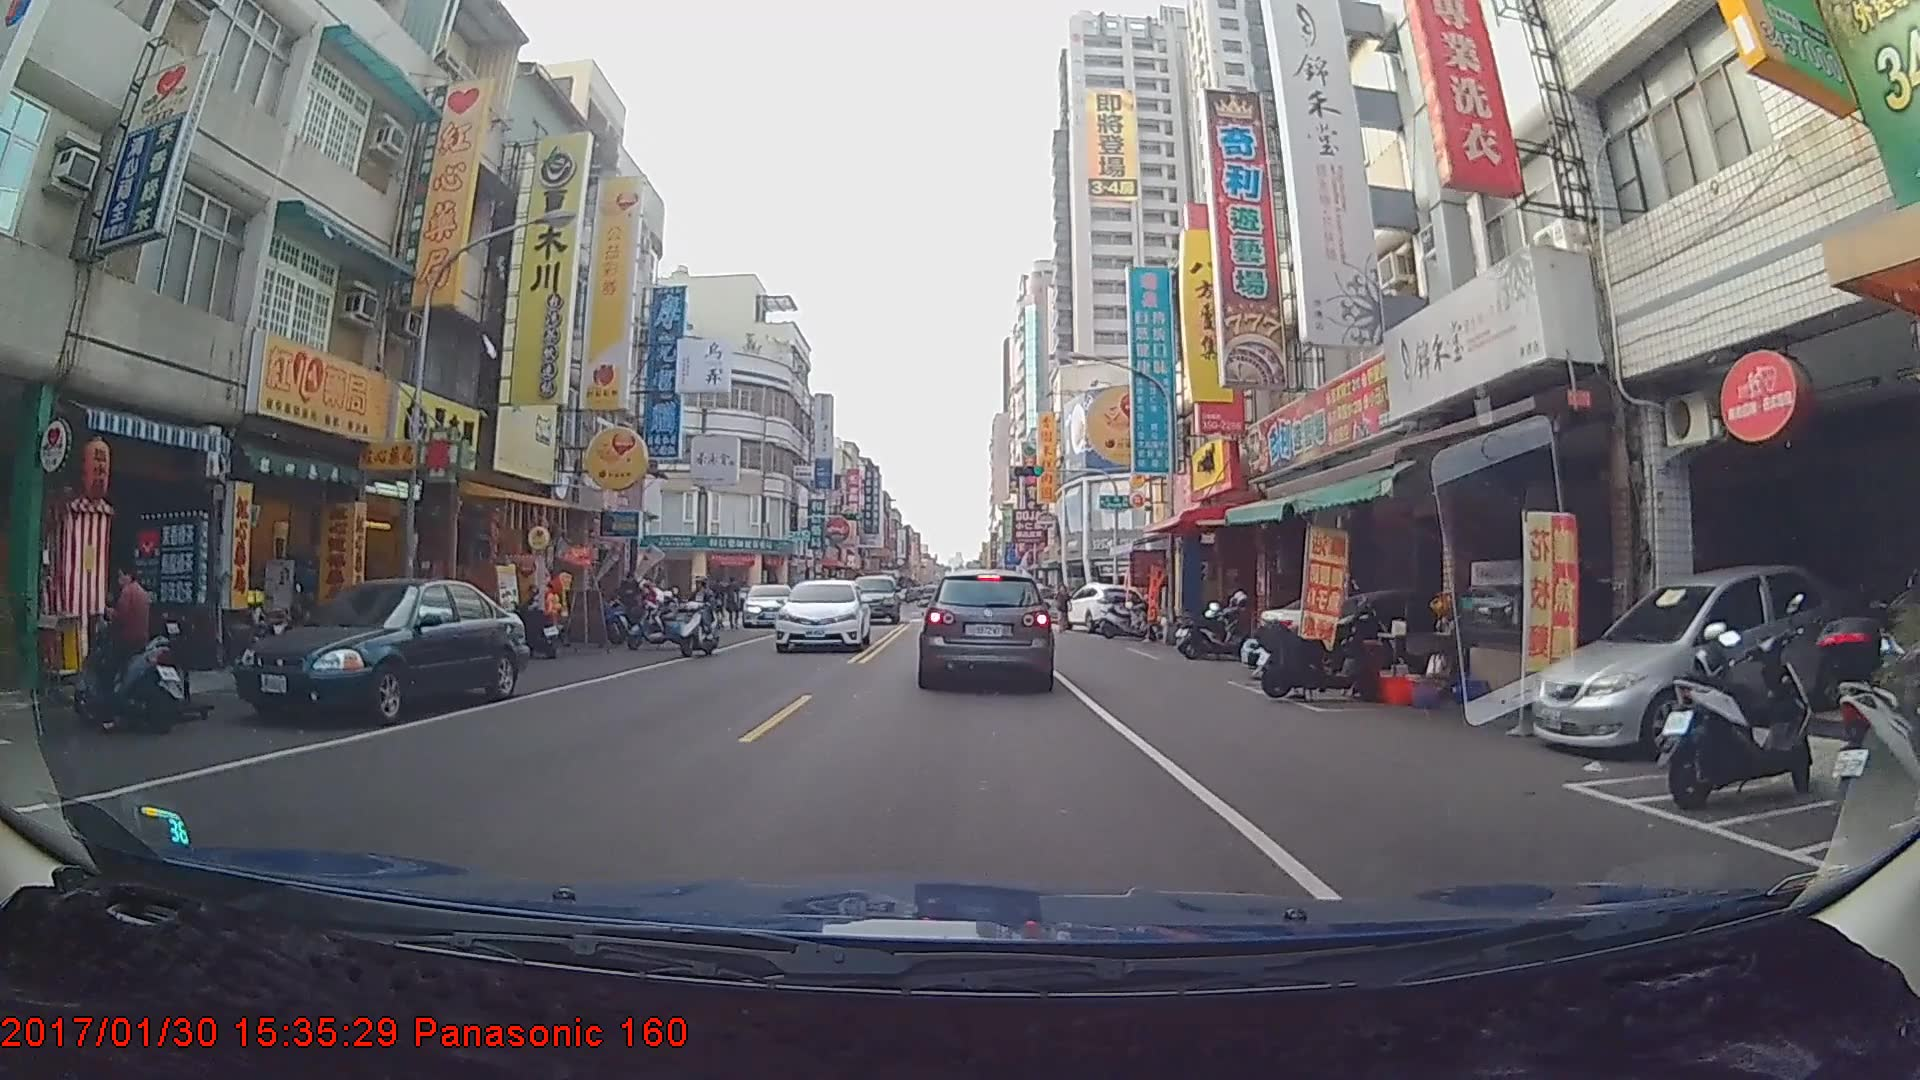pedestrian: (1052, 584, 1073, 635)
rider: (77, 556, 192, 740), (672, 576, 727, 666)
vehicle: (1528, 561, 1887, 762), (232, 580, 526, 730), (918, 568, 1054, 689), (773, 575, 869, 653), (1059, 583, 1150, 637), (845, 575, 900, 627), (741, 582, 791, 627)
